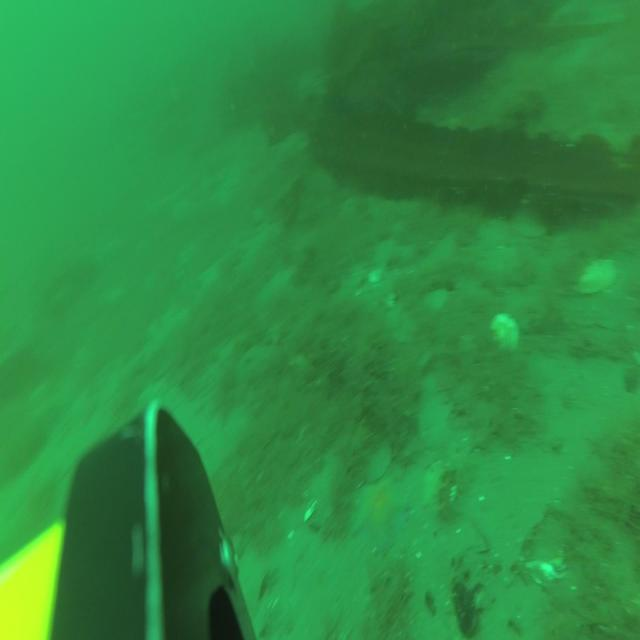scallop: (574, 256, 617, 293), (489, 310, 518, 351), (513, 204, 546, 240)
starfish: (352, 468, 410, 550)
